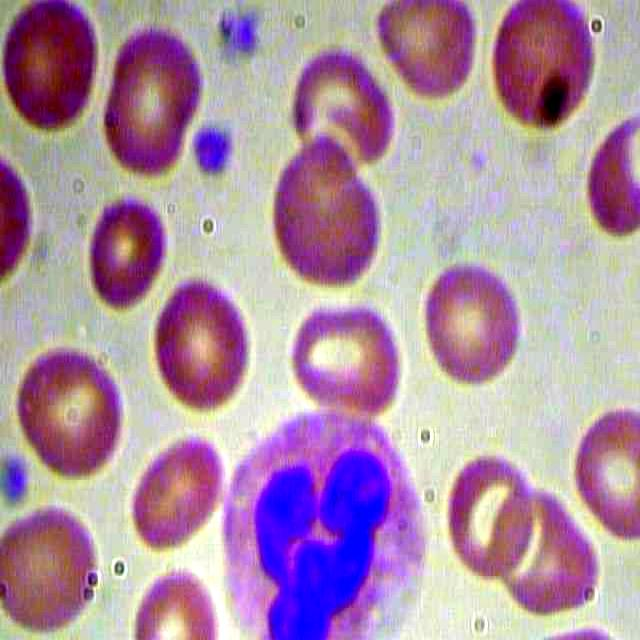Platelets: (186, 113, 245, 188), (206, 1, 258, 72), (1, 456, 27, 507)
RBC: (265, 136, 390, 293), (98, 22, 209, 182), (10, 333, 125, 483), (1, 489, 115, 640), (149, 276, 266, 415), (290, 281, 407, 420), (421, 247, 538, 385), (485, 1, 602, 139), (1, 1, 107, 146), (436, 443, 538, 581), (129, 432, 227, 564), (368, 1, 482, 106), (567, 398, 640, 538), (86, 191, 169, 308)
WBC: (218, 404, 443, 640)
